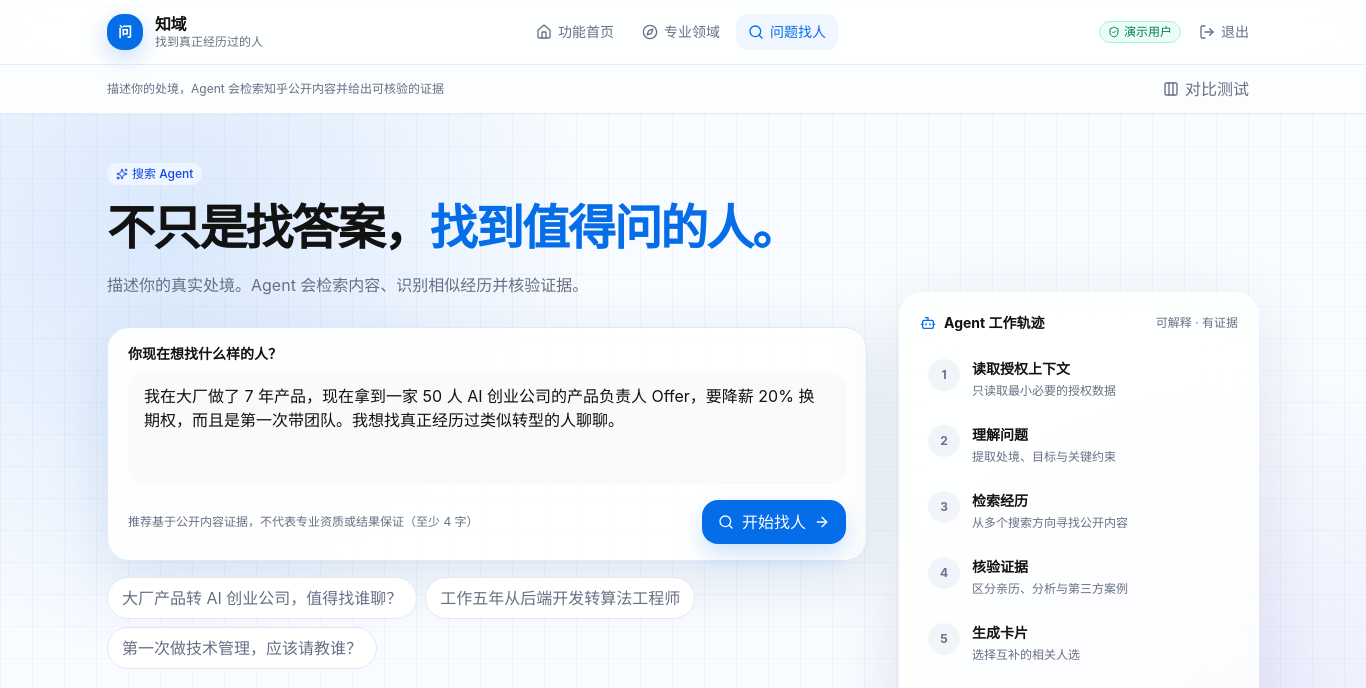
搜索结果 → 会话跳转 › 创建失败时保留人物结果并显示可重试错误
The image size is (1366, 688).
Step 1. Click the button "开始找人" → (774, 522), box [702,500,846,544]
(page scrolled)
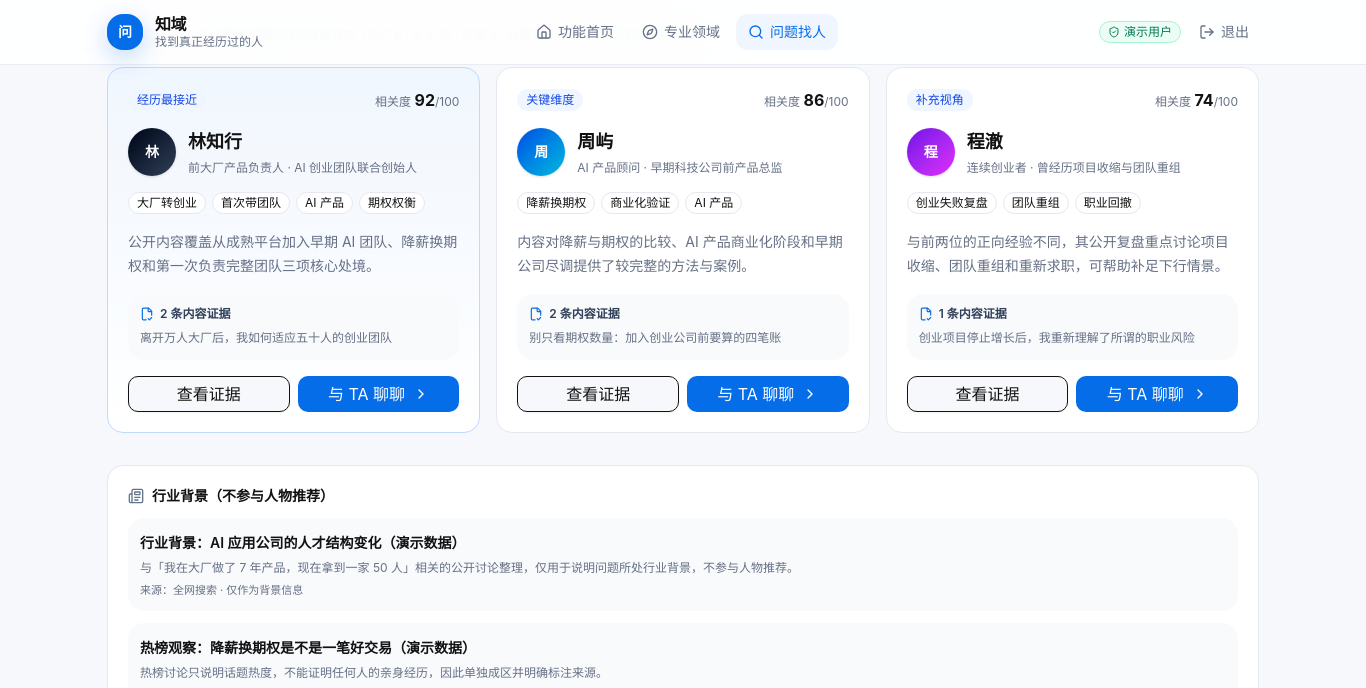
Result: the text "林知行" is shown at [188,131,242,152]
Step 2. Click the button "与 TA 聊聊" below "离开万人大厂后，我如何适应五十人的创业团队" → (379, 394), box [298,376,459,412]
(page scrolled)
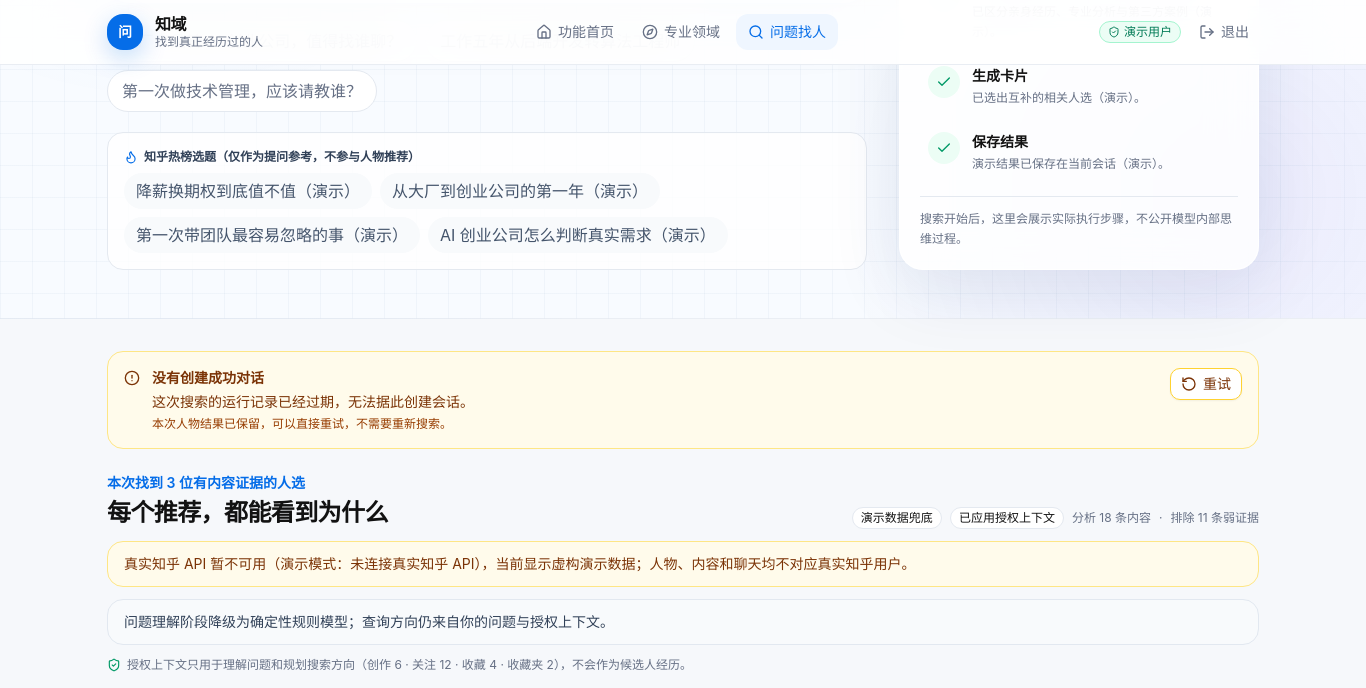
Result: the text "没有创建成功对话" is shown at [152,369,264,386]
Result: the text "这次搜索的运行记录已经过期，无法据此创建会话。" is shown at [152,393,474,410]
Result: the button "重试" is shown at [1170,368,1242,400]
